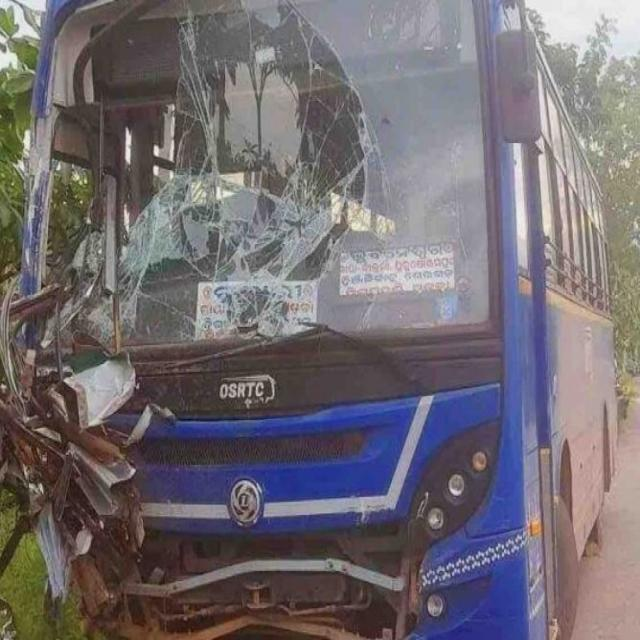accident: (0, 0, 618, 638)
